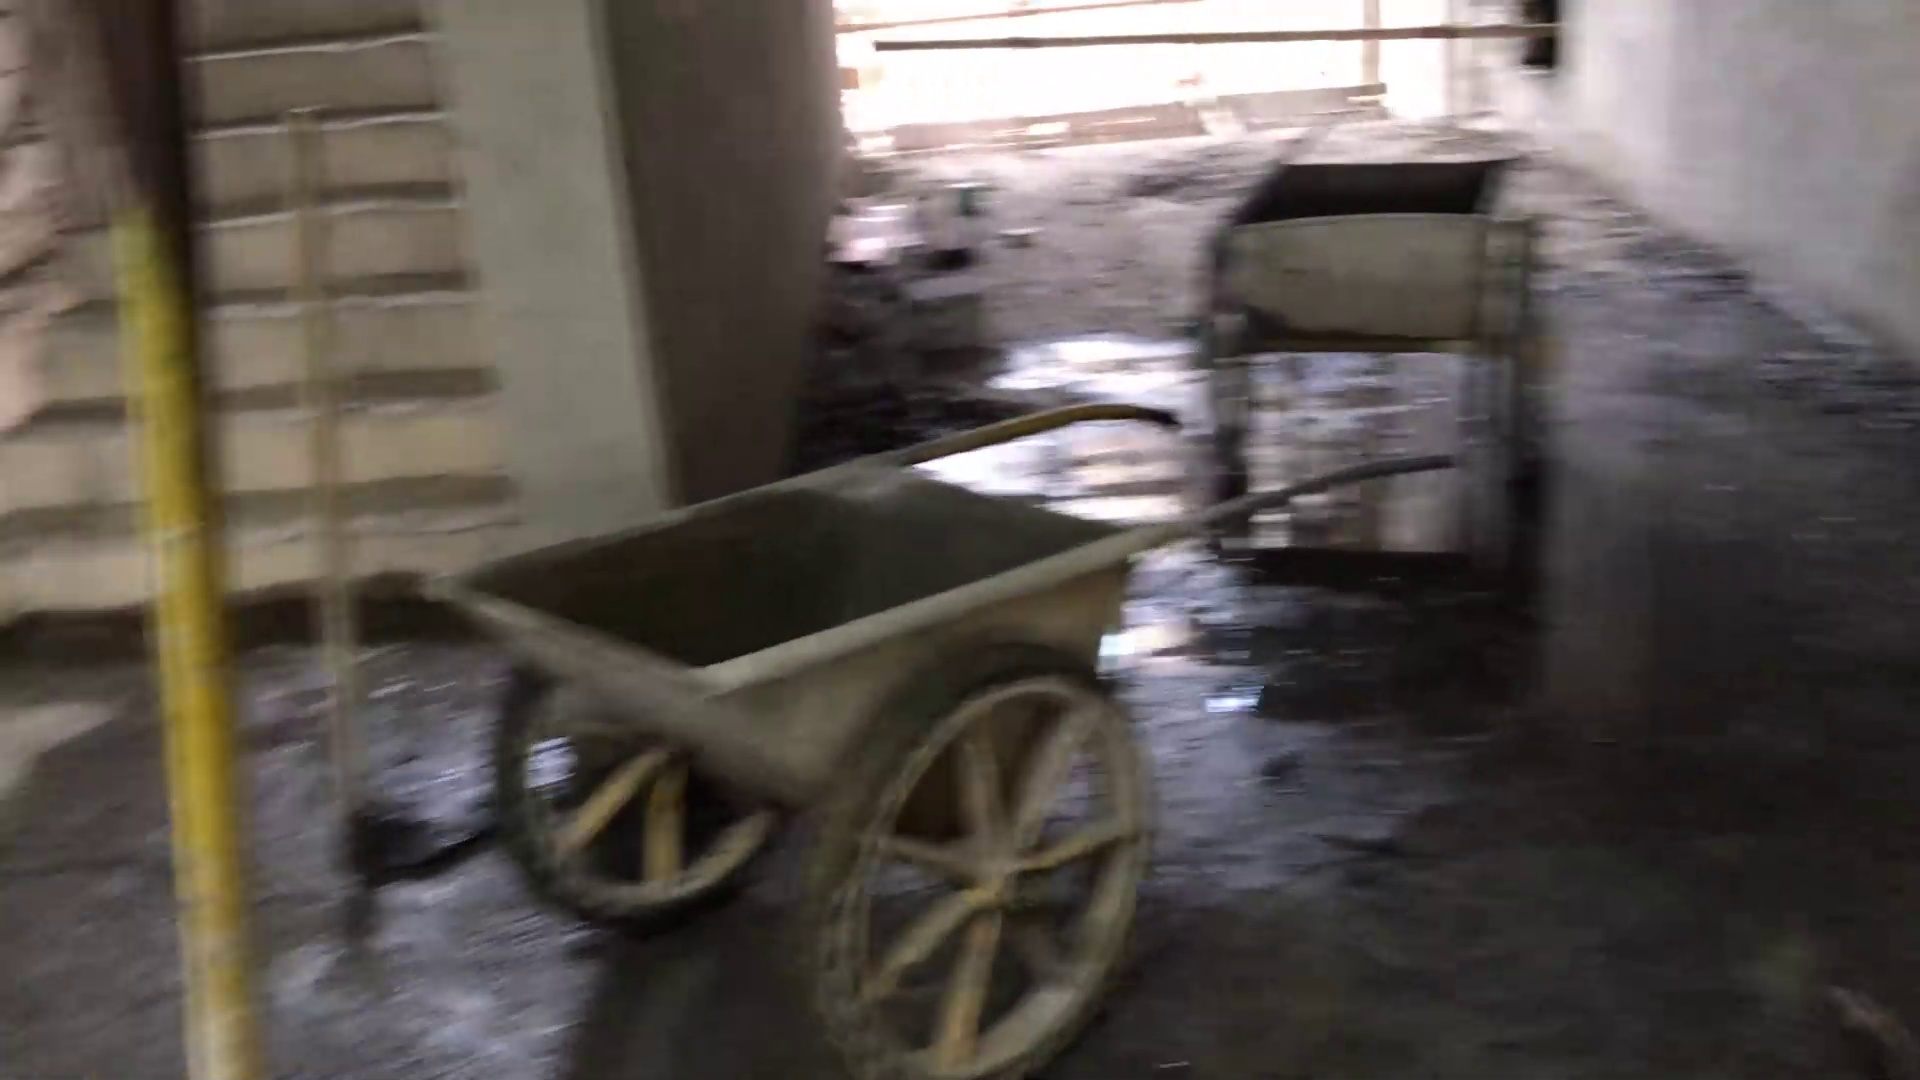handcart: (380, 415, 1528, 1075), (1203, 87, 1575, 484)
